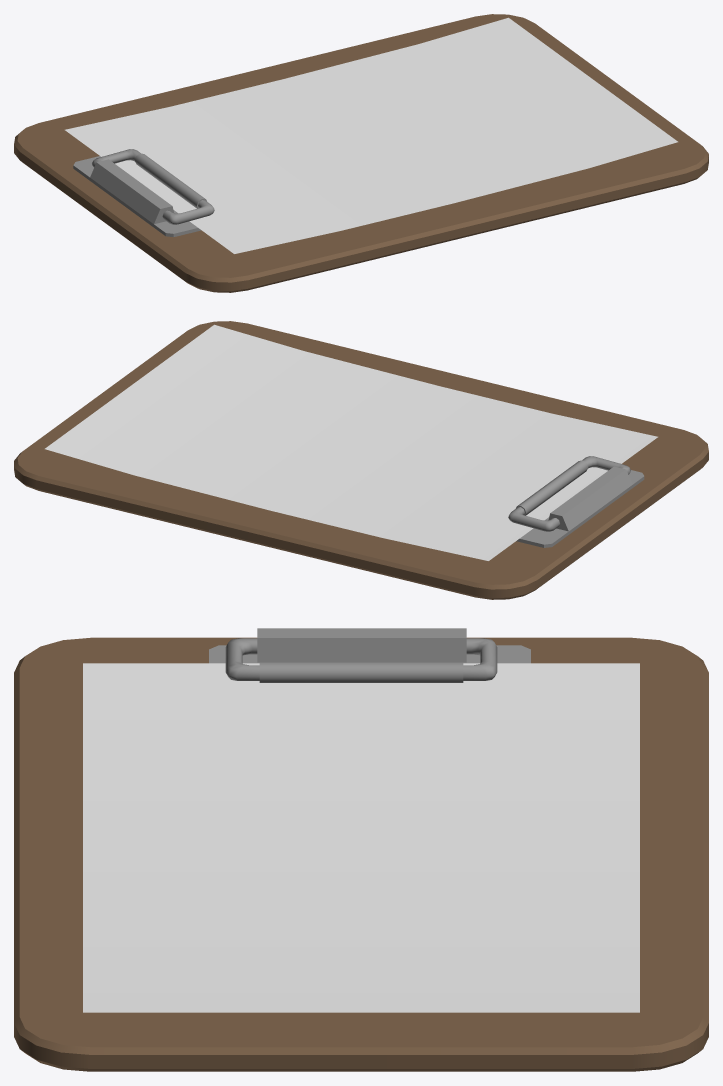
The model's file is laboratory_clipboard.fbx.
3 views of the same model, one above another, from view 1: azimuth 30°, elevation 25°; view 2: azimuth 150°, elevation 25°; view 3: azimuth 270°, elevation 25° (orthographic). The views are drawn at different scales.
Visible parts, largest first — view 1: laboratory_clipboard; view 2: laboratory_clipboard; view 3: laboratory_clipboard.
Boxes of the visible parts, x1,y1,x2,y2 form: laboratory_clipboard: (14, 14, 708, 292); laboratory_clipboard: (14, 321, 708, 599); laboratory_clipboard: (14, 628, 708, 1071).
Bounding box in the file's own units: 9.38 × 0.5544 × 6.65.
